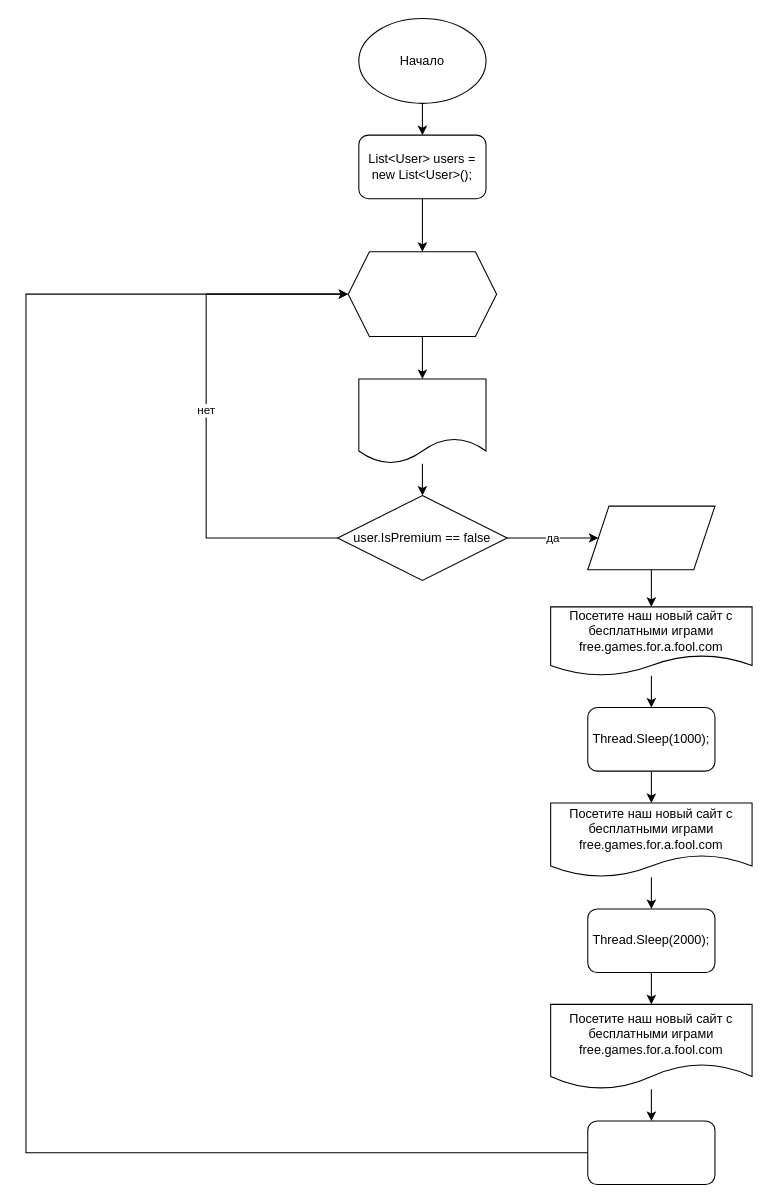
The diagram is 771 pixels wide and 1203 high, and some of its shapes have lost their labels. The centre of each missing label's shape, as x and y in pixels:
"Добро пожаловать " + user.Name: point 422,421
foreach (User user in users): point 422,294
Thread.Sleep(3000);: point 651,1152
user.ShowAds(): point 651,537
